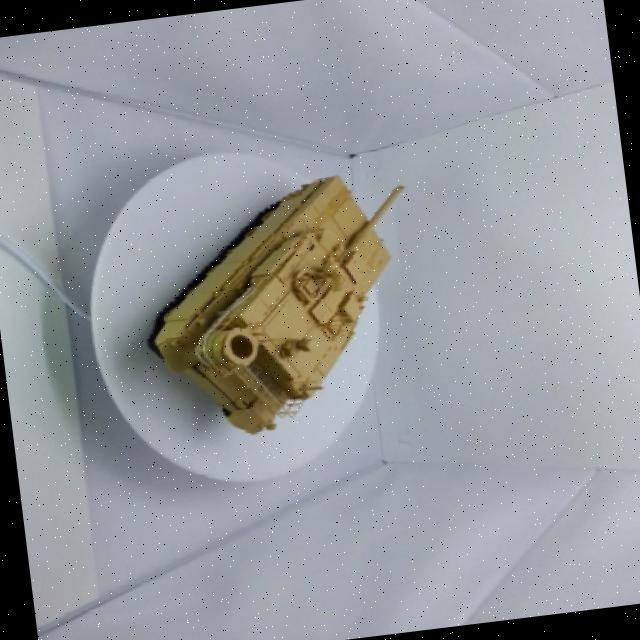korea tank: (115, 130, 455, 462)
